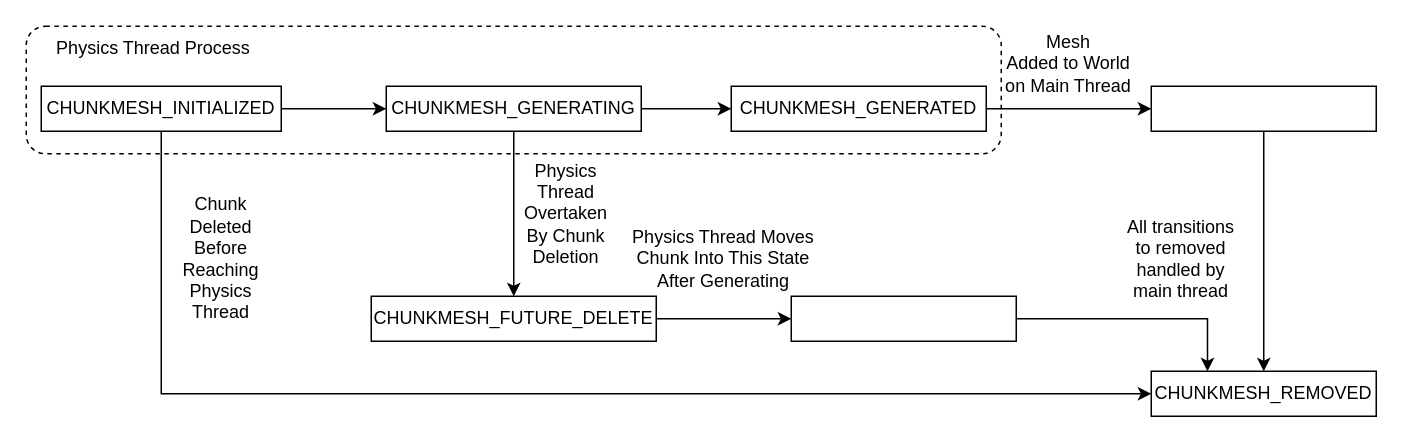
Some shapes in this 1403 by 443 pixel diagram are drawn without their labels. The centre of each missing label's shape, as x and y in pixels:
CHUNKMESH_INWORLD: (x=1263, y=108)
CHUNKMESH_REMOVING: (x=903, y=318)
